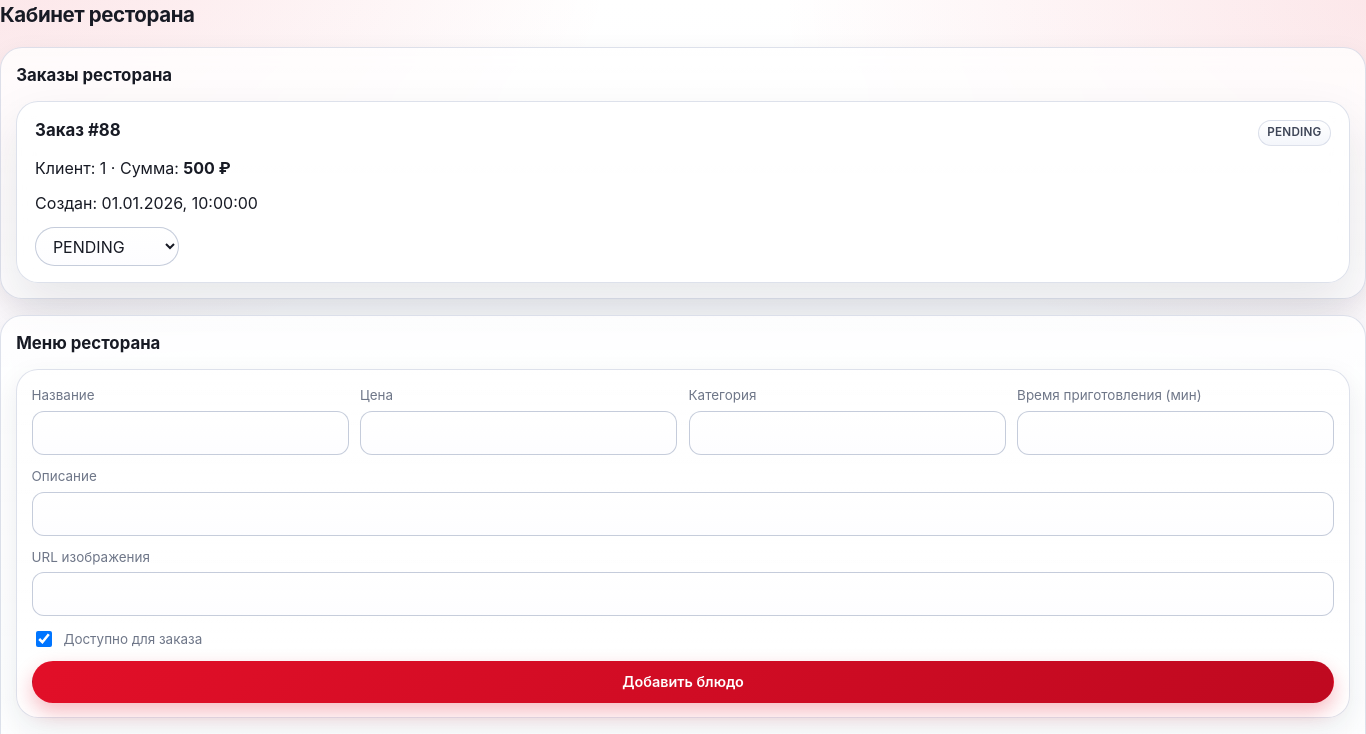
it: RestaurantDashboardPage › shows backend/domain error when order status update fails
Expected: the heading "Заказ #88" is shown, [35,118,121,143]
Select "READY" in the dropdown. click: (107, 247)
box: [35,227,179,266]
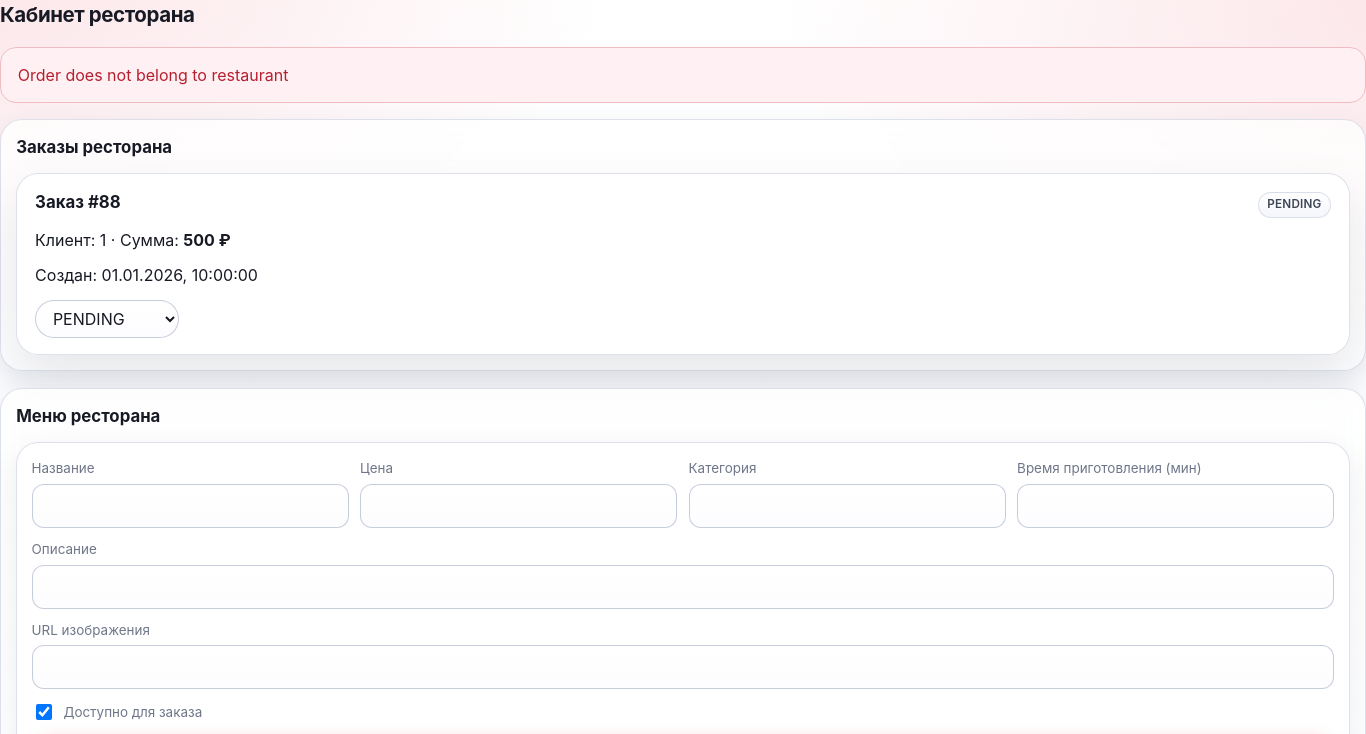
Now the text "Order does not belong to restaurant" is shown, box [18,65,288,85]
